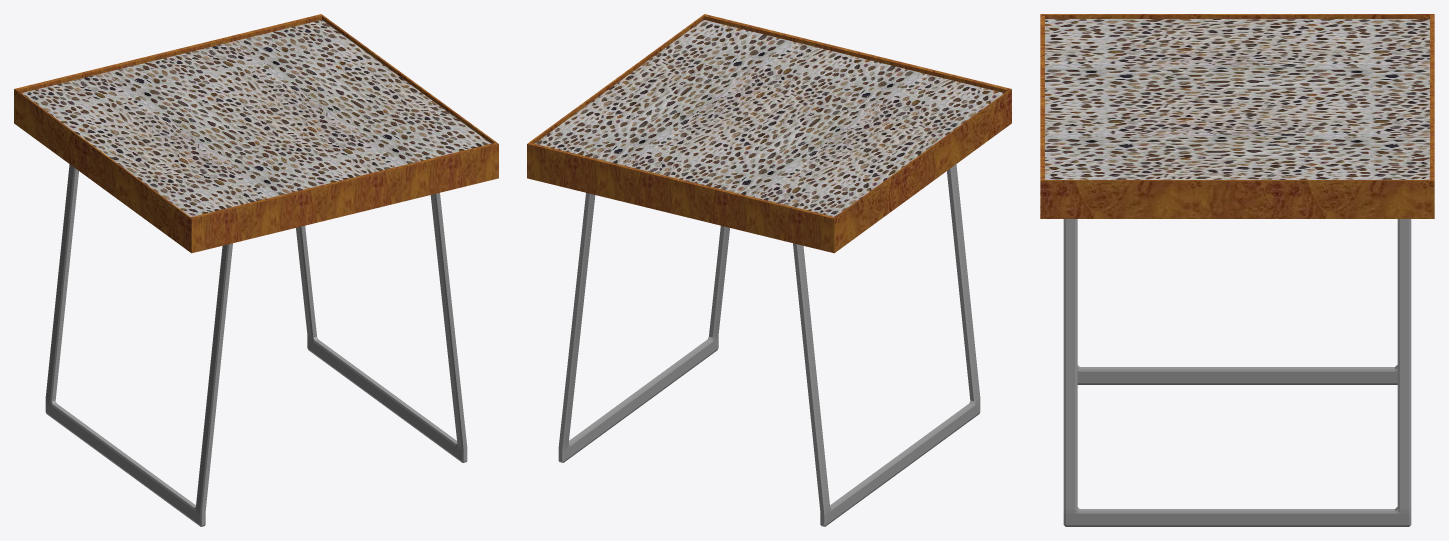
File: sh-scopia-coffee-table2.glb
The picture shows the model from 3 angles, left to right: view 1: azimuth 30°, elevation 25°; view 2: azimuth 150°, elevation 25°; view 3: azimuth 270°, elevation 25°; orthographic projection. The views are drawn at different scales.
Visible parts, largest first — view 1: Cube.003_Cube.056, Cube.004_Cube.057; view 2: Cube.003_Cube.056, Cube.004_Cube.057; view 3: Cube.003_Cube.056, Cube.004_Cube.057.
Boxes of the visible parts, box(x1,y1,x2,y2) form: Cube.003_Cube.056: box(14, 14, 498, 253); Cube.004_Cube.057: box(45, 164, 467, 526); Cube.003_Cube.056: box(527, 14, 1011, 253); Cube.004_Cube.057: box(558, 164, 980, 526); Cube.003_Cube.056: box(1040, 14, 1434, 218); Cube.004_Cube.057: box(1063, 219, 1411, 526).
Bounding box in the file's own units: 1 × 1 × 1.
3 materials, 2 textured.
